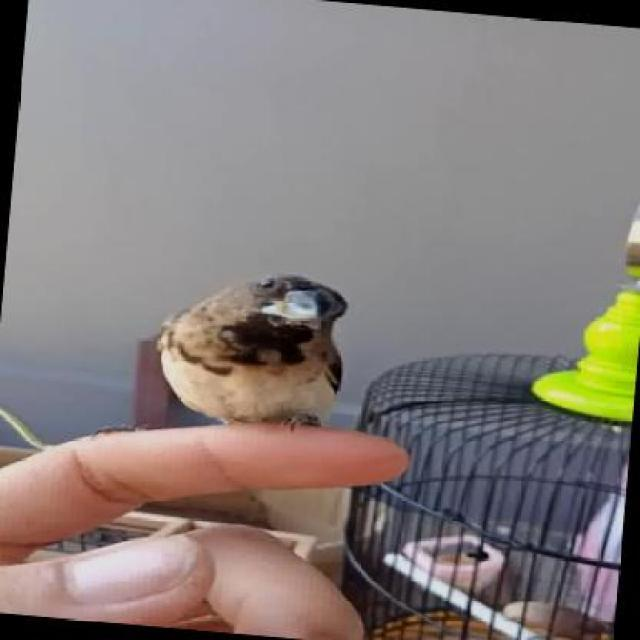Bird: (123, 248, 420, 482)
